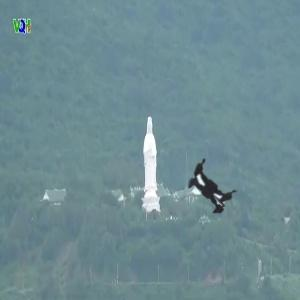drone: (134, 113, 291, 270)
